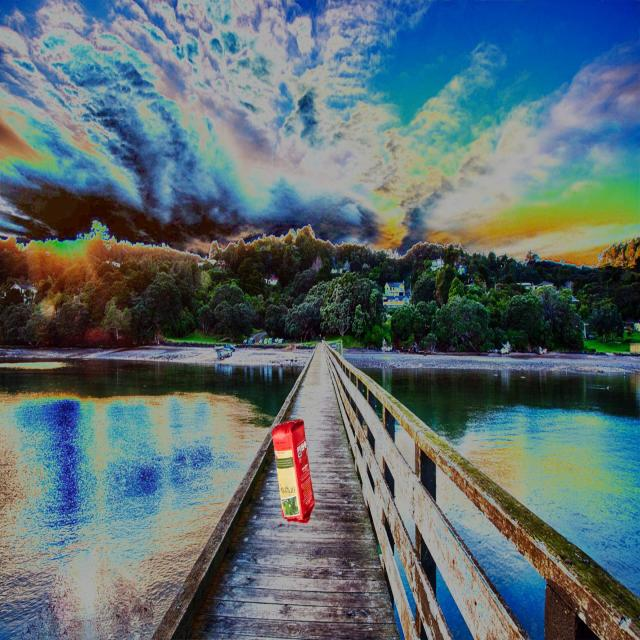mate bag: (271, 418, 315, 523)
